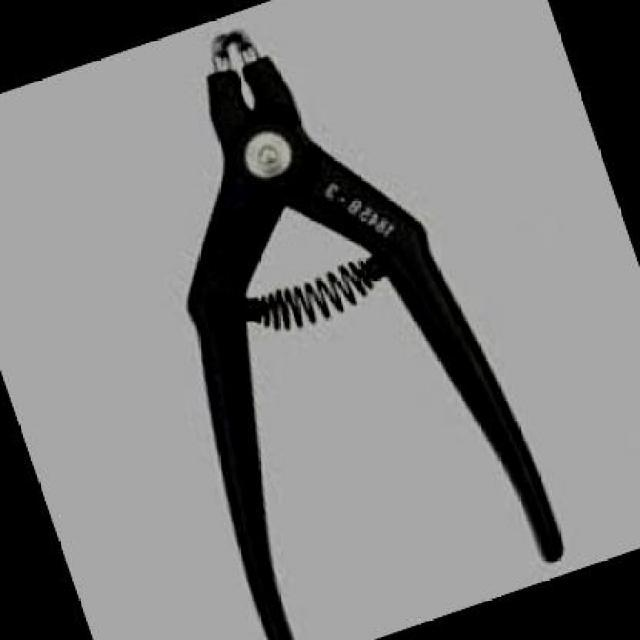pliers: (59, 0, 578, 638)
